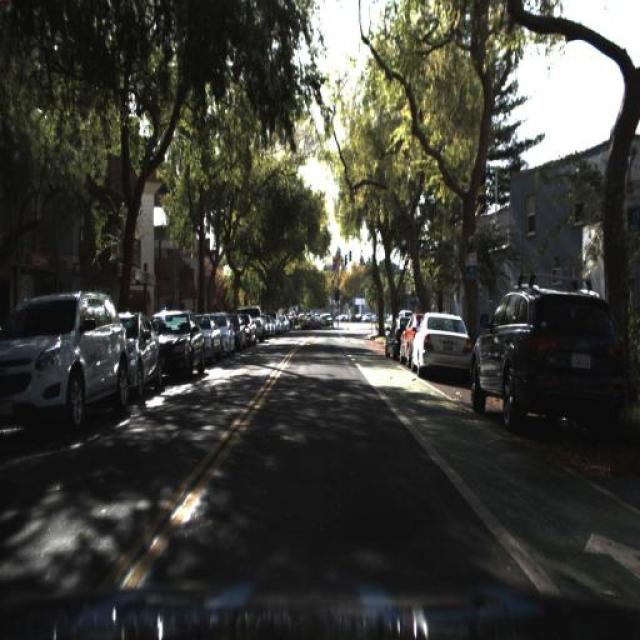car: (463, 275, 626, 427), (0, 289, 128, 427), (408, 304, 471, 378), (153, 306, 208, 379), (120, 309, 161, 395), (193, 312, 223, 366), (216, 308, 237, 361)
